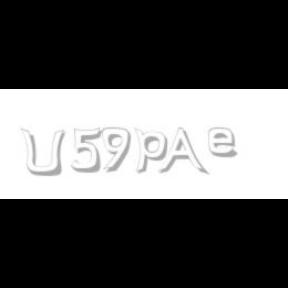5: (70, 128, 102, 174)
9: (102, 128, 130, 172)
A: (158, 128, 206, 176)
U: (20, 128, 64, 178)
e: (208, 128, 242, 158)
p: (134, 128, 172, 174)
